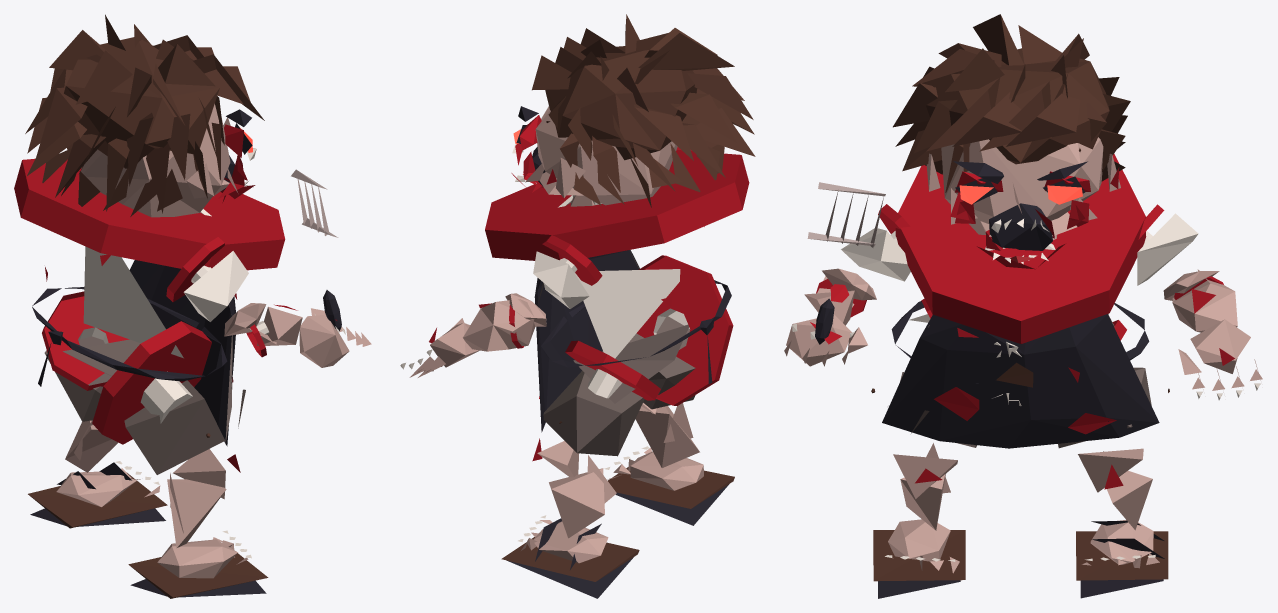
The model's file is inf.bbq-dad.lod2.glb.
The picture shows the model from 3 angles, left to right: view 1: azimuth 30°, elevation 25°; view 2: azimuth 150°, elevation 25°; view 3: azimuth 270°, elevation 25°; orthographic projection. The views are drawn at different scales.
Visible parts, largest first — view 1: head, stump_head, torso, stump_legR, footL, footR, legR, shinR, handR, stump_legL, armR, shinL (+4 smaller); view 2: head, stump_head, torso, stump_legR, footL, footR, legL, shinL, shinR, foreArmL, stump_legL, armL (+4 smaller); view 3: head, torso, stump_head, footR, footL, handR, shinL, armR, shinR, handL, armL, foreArmL (+1 smaller).
Boxes of the visible parts, box(x1,y1,x2,y2) form: head: box(25, 14, 264, 217); stump_head: box(14, 158, 285, 270); torso: box(32, 209, 245, 446); stump_legR: box(92, 321, 211, 444); footL: box(28, 461, 167, 528); footR: box(128, 530, 268, 598); legR: box(124, 380, 225, 474); shinR: box(167, 449, 240, 547); handR: box(291, 169, 371, 367); stump_legL: box(42, 291, 129, 390); armR: box(183, 251, 266, 336); shinL: box(65, 420, 118, 472); head: box(511, 14, 755, 207); stump_head: box(485, 150, 749, 260); torso: box(534, 195, 731, 432); stump_legR: box(636, 255, 733, 405); footL: box(501, 515, 639, 598); footR: box(604, 446, 734, 525); legL: box(543, 370, 644, 456); shinL: box(532, 438, 616, 538); shinR: box(635, 403, 699, 467); foreArmL: box(463, 299, 535, 351); stump_legL: box(565, 340, 660, 400); armL: box(505, 251, 589, 326); head: box(893, 14, 1130, 269); torso: box(882, 243, 1159, 448); stump_head: box(895, 154, 1146, 343); footR: box(873, 519, 965, 598); footL: box(1076, 520, 1168, 598); handR: box(784, 182, 885, 366); shinL: box(1078, 448, 1152, 530); armR: box(822, 228, 910, 300); shinR: box(893, 443, 957, 530); handL: box(1178, 319, 1262, 400); armL: box(1137, 213, 1219, 300); foreArmL: box(1172, 269, 1237, 332).
Size of the model in its own units: 0.9241 by 1.8 by 1.46.
